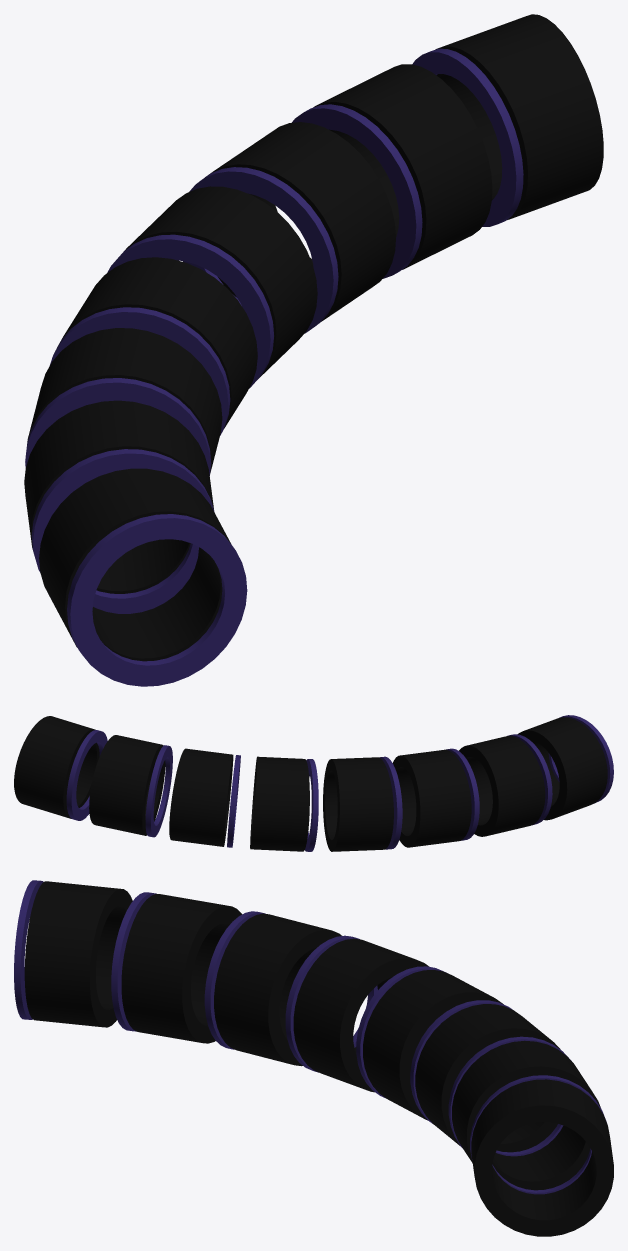
3 views of the same model, one above another, from view 1: azimuth 30°, elevation 25°; view 2: azimuth 150°, elevation 25°; view 3: azimuth 270°, elevation 25° (orthographic). The views are drawn at different scales.
Parts seen in each view (by area): view 1: Tube_8; view 2: Tube_8; view 3: Tube_8.
Boxes of the visible parts, x1,y1,x2,y2 form: Tube_8: [24, 14, 603, 686]; Tube_8: [14, 715, 613, 851]; Tube_8: [14, 880, 613, 1236].
Size of the model in its own units: 2055 by 560 by 1714.
